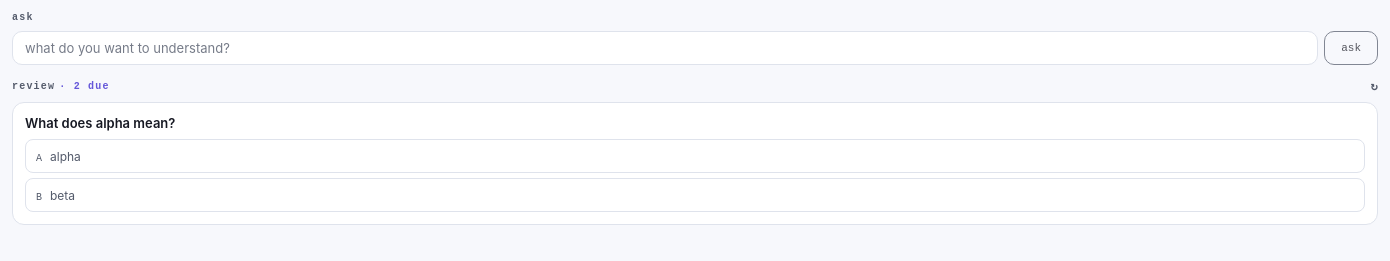
Test: TutorPanel › picking the right option records a correct attempt and shows mastery
This screenshot has width=1390, height=261.
Expected: the text "What does alpha mean?" is shown, [25,115,175,131]
Click the button "alpha" at (65, 156), box [25,139,1365,173]
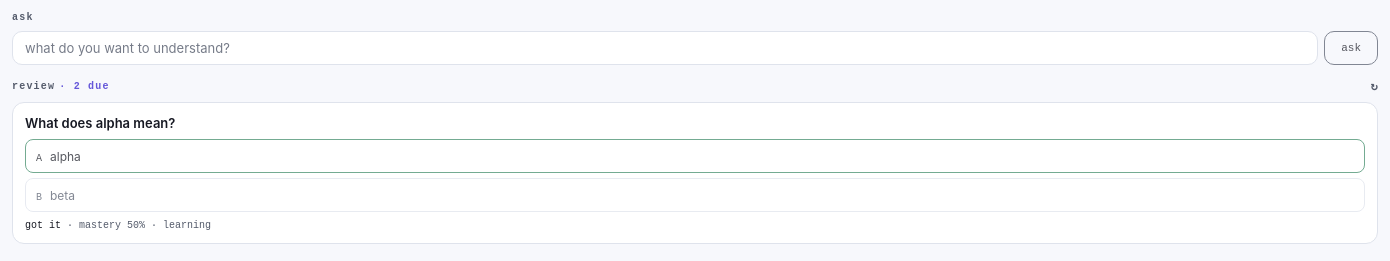
Expected: the text "· mastery 50% · learning" is shown, [61,220,211,231]
